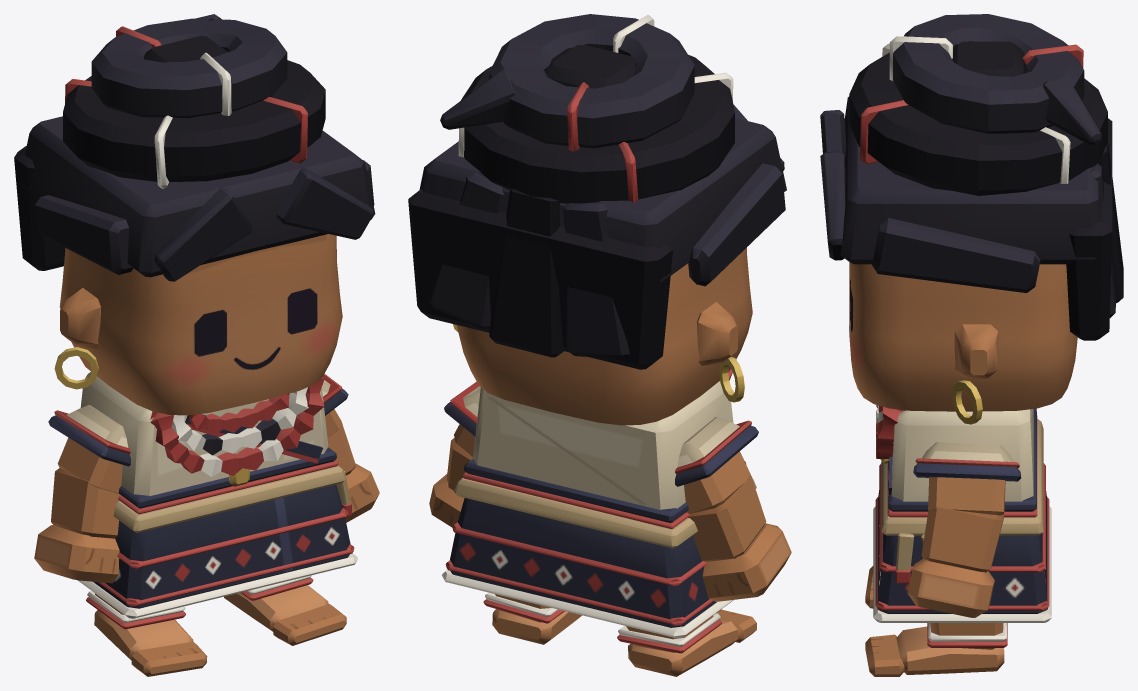
Rendered from audience_v2_woman_stand.glb.
3 views of the same model, side by side, from view 1: azimuth 30°, elevation 25°; view 2: azimuth 150°, elevation 25°; view 3: azimuth 270°, elevation 25° (orthographic). The views are drawn at different scales.
Visible parts, largest first — view 1: audience_v2_woman_stand; view 2: audience_v2_woman_stand; view 3: audience_v2_woman_stand.
Boxes of the visible parts, left/top/right/bottom form: audience_v2_woman_stand: left=14, top=14, right=379, bottom=676; audience_v2_woman_stand: left=408, top=14, right=791, bottom=676; audience_v2_woman_stand: left=820, top=14, right=1123, bottom=676.
Bounding box in the file's own units: 0.4529 × 0.7777 × 0.3624.
Materials: 1 (1 with a texture image).
